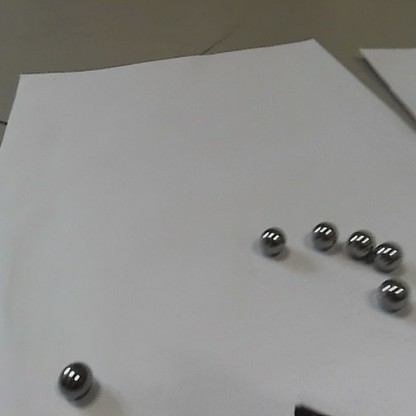ironball: (55, 361, 91, 401), (376, 275, 410, 314), (307, 218, 340, 253), (372, 236, 404, 272), (255, 223, 289, 256), (344, 230, 374, 263)
